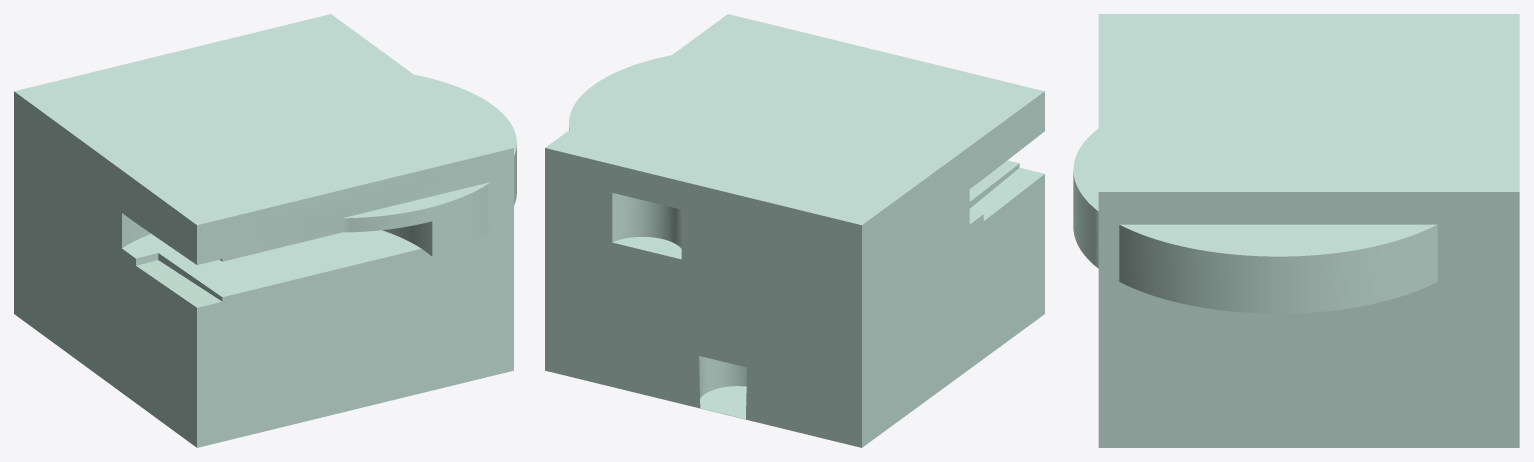
3 renders of one model, left to right at view 1: azimuth 30°, elevation 25°; view 2: azimuth 150°, elevation 25°; view 3: azimuth 270°, elevation 25°, orthographic. The views are drawn at different scales.
Visible parts, largest first — view 1: Renderer Node; view 2: Renderer Node; view 3: Renderer Node.
Boxes of the visible parts, left/top/right/bottom form: Renderer Node: left=14, top=14, right=516, bottom=447; Renderer Node: left=545, top=14, right=1044, bottom=447; Renderer Node: left=1073, top=14, right=1519, bottom=447.
Size of the model in its own units: 1.29 by 0.7344 by 1.16.
